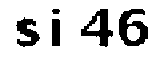4: (79, 7, 113, 48)
6: (117, 7, 152, 47)
i: (48, 5, 66, 52)
s: (13, 16, 41, 50)
